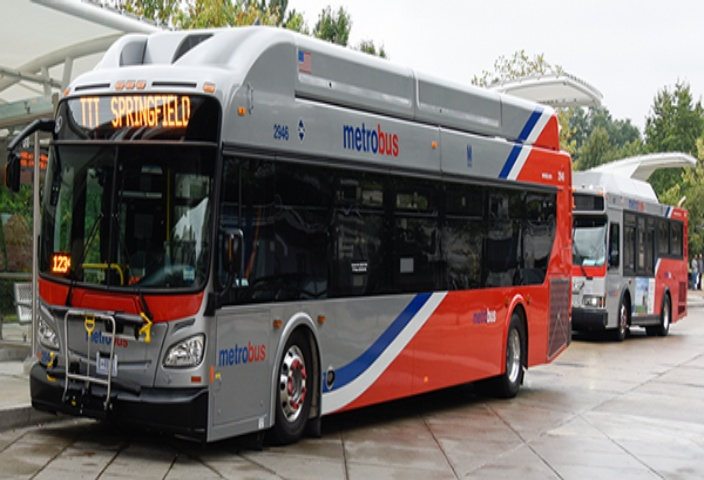bus: (8, 19, 578, 433), (532, 167, 696, 340)
